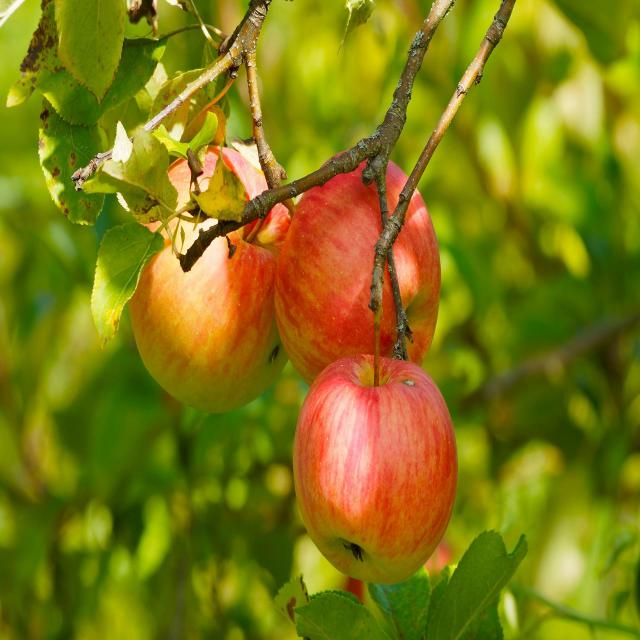Apple: (111, 138, 297, 419), (295, 353, 462, 580), (274, 150, 440, 374)
